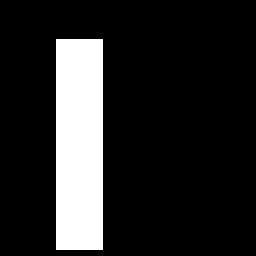person: (56, 39, 102, 249)
